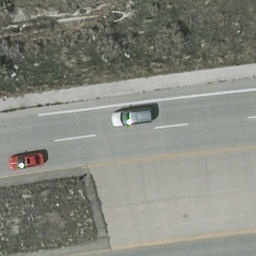car: (111, 105, 153, 129), (7, 152, 46, 169)
